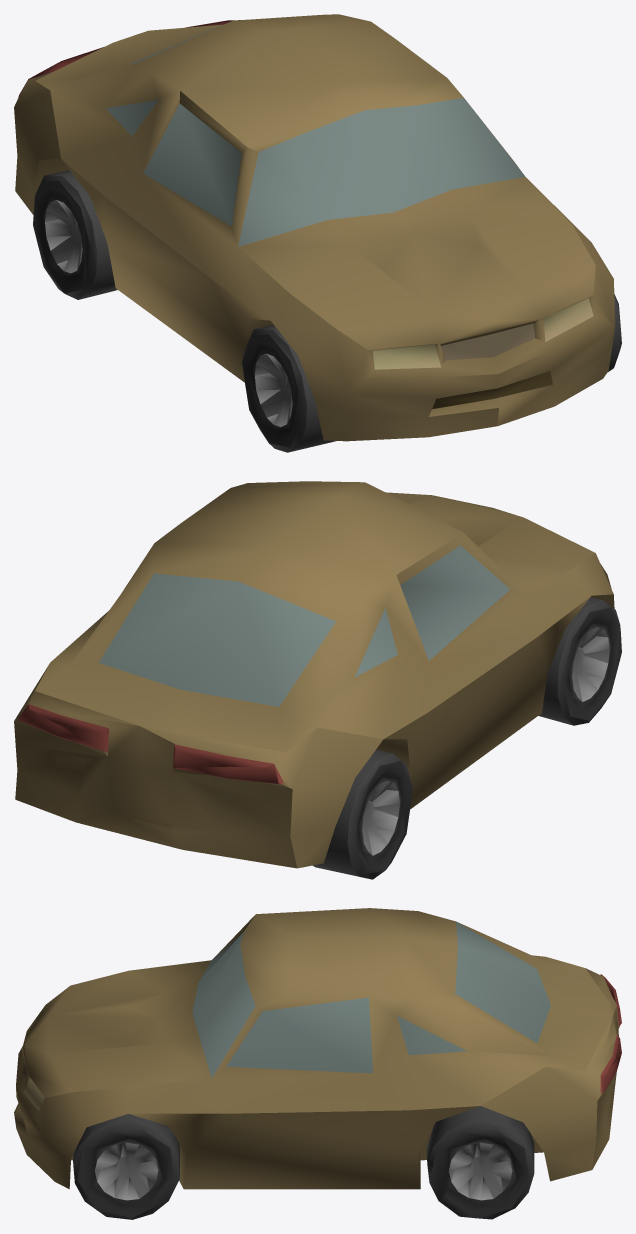
Rendered from Car 5.fbx.
The picture shows the model from 3 angles, top to bottom: view 1: azimuth 30°, elevation 25°; view 2: azimuth 150°, elevation 25°; view 3: azimuth 270°, elevation 25°; orthographic projection. The views are drawn at different scales.
Visible parts, largest first — view 1: Car 5; view 2: Car 5; view 3: Car 5.
Part boxes in pixels (<box>): Car 5: <box>14,14,621,452</box>; Car 5: <box>14,481,621,879</box>; Car 5: <box>14,908,621,1219</box>.
Size of the model in its own units: 599 by 452 by 1142.
